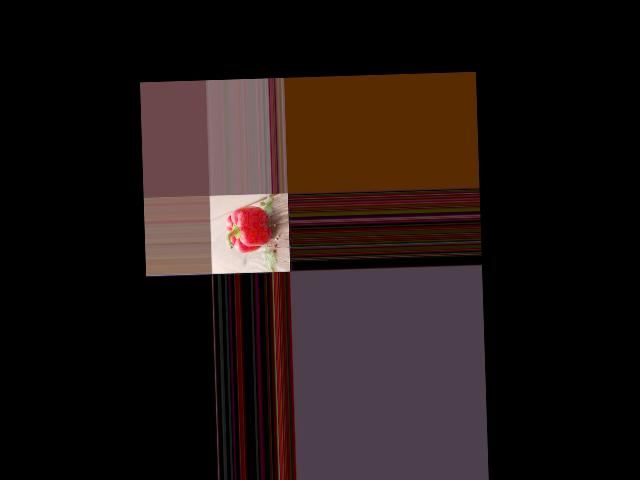bell_pepper: (221, 202, 273, 255)
